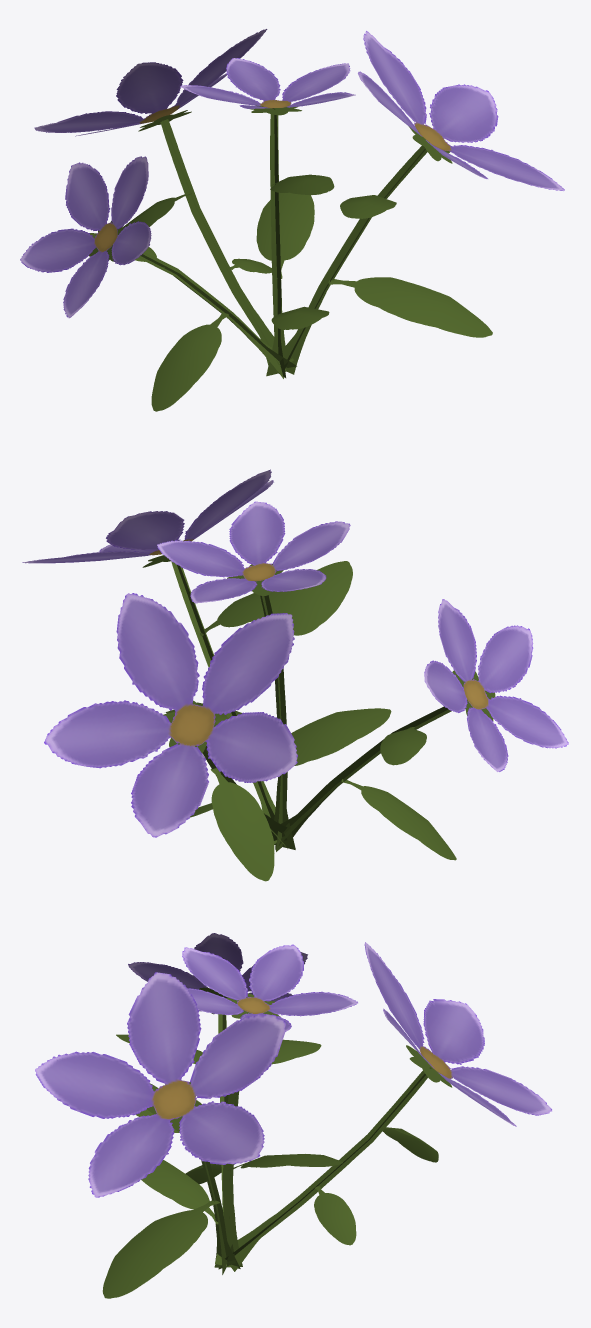
Rendered from Flower3.fbx.
3 renders of one model, top to bottom at view 1: azimuth 30°, elevation 25°; view 2: azimuth 150°, elevation 25°; view 3: azimuth 270°, elevation 25°, orthographic. The views are drawn at different scales.
Visible parts, largest first — view 1: Flower 3; view 2: Flower 3; view 3: Flower 3.
Part boxes in pixels (x1=…): Flower 3: x1=20, y1=29, x2=564, y2=411; Flower 3: x1=22, y1=469, x2=568, y2=881; Flower 3: x1=35, y1=933, x2=551, y2=1298.
Bounding box in the file's own units: 67.89 × 42.4 × 63.3.
